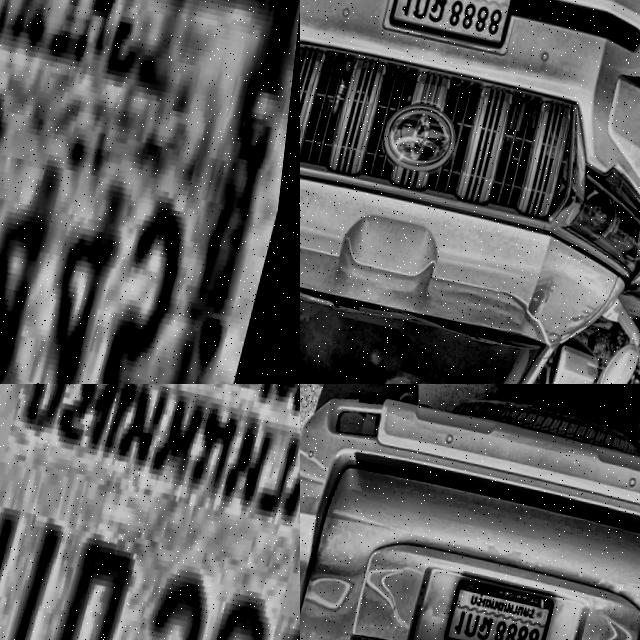license-plate: (0, 0, 300, 384), (0, 384, 300, 640), (444, 570, 563, 640), (385, 0, 528, 49)
